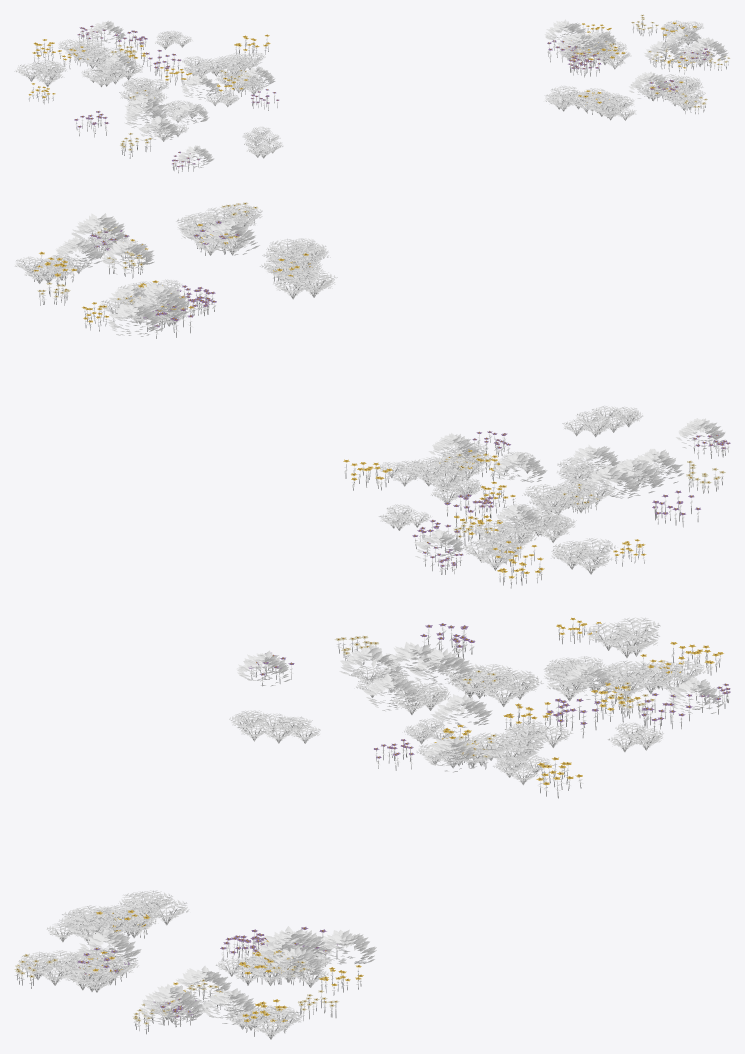
The model's file is SM_NW_Nature_0_1_Flora.fbx.
The picture shows the model from 3 angles, top to bottom: view 1: azimuth 30°, elevation 25°; view 2: azimuth 150°, elevation 25°; view 3: azimuth 270°, elevation 25°; orthographic projection. The views are drawn at different scales.
Parts seen in each view (by area): view 1: SM_NW_Nature_0_1_Flora; view 2: SM_NW_Nature_0_1_Flora; view 3: SM_NW_Nature_0_1_Flora.
Part boxes in pixels (x1=…): SM_NW_Nature_0_1_Flora: x1=15, y1=14, x2=730, y2=173; SM_NW_Nature_0_1_Flora: x1=15, y1=202, x2=730, y2=588; SM_NW_Nature_0_1_Flora: x1=14, y1=617, x2=730, y2=1039.
Size of the model in its own units: 2786 by 1990 by 163.
